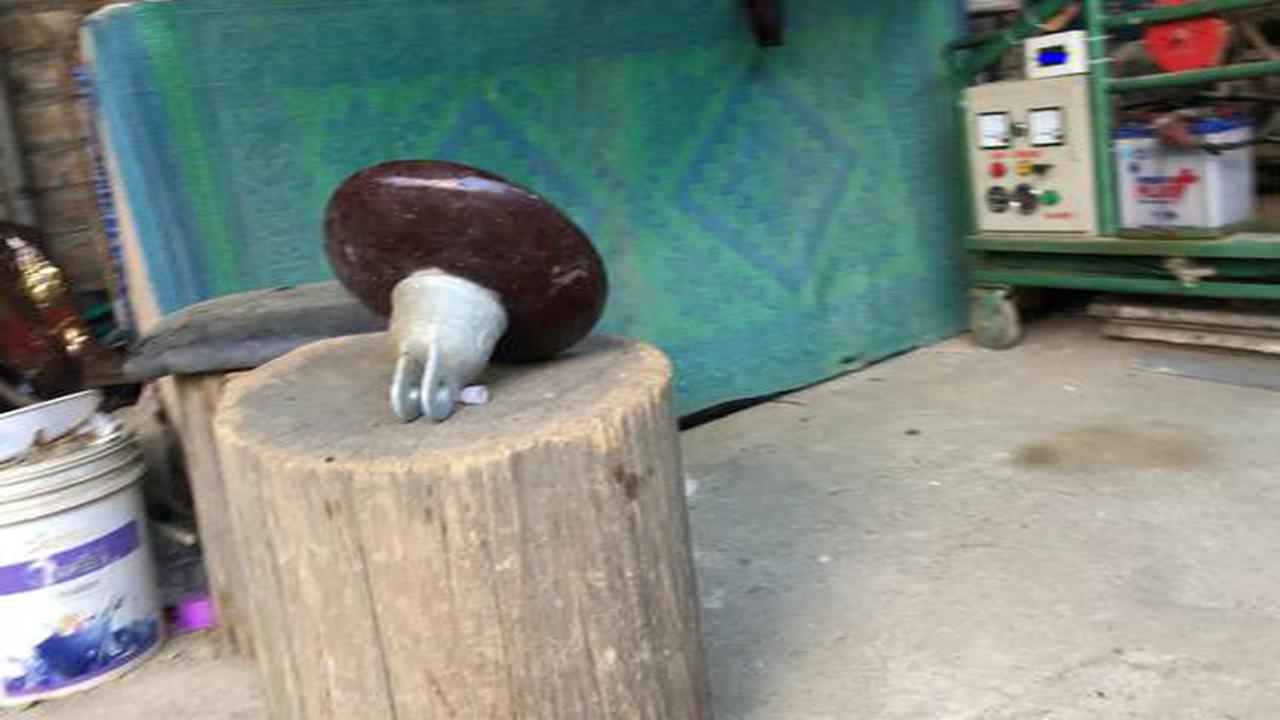insulator_disc: (317, 156, 621, 421)
